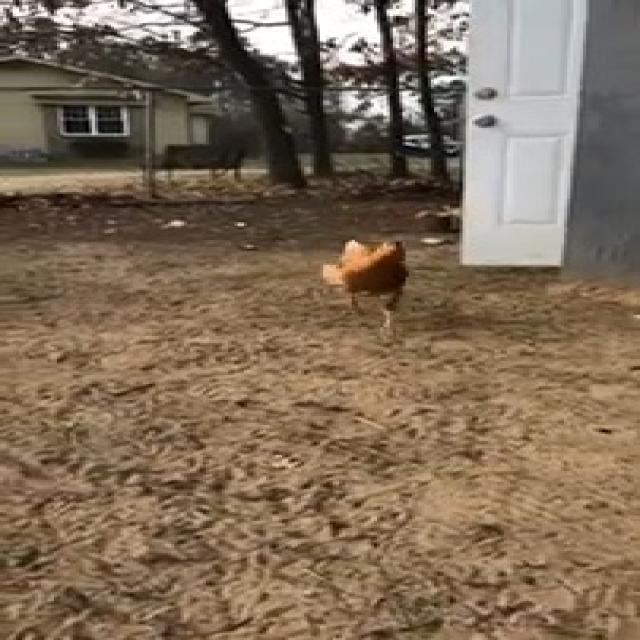running: (301, 217, 444, 341)
